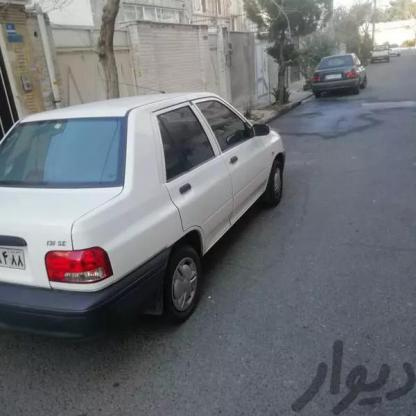Car: (0, 70, 266, 364), (297, 49, 379, 108), (354, 40, 392, 71)
